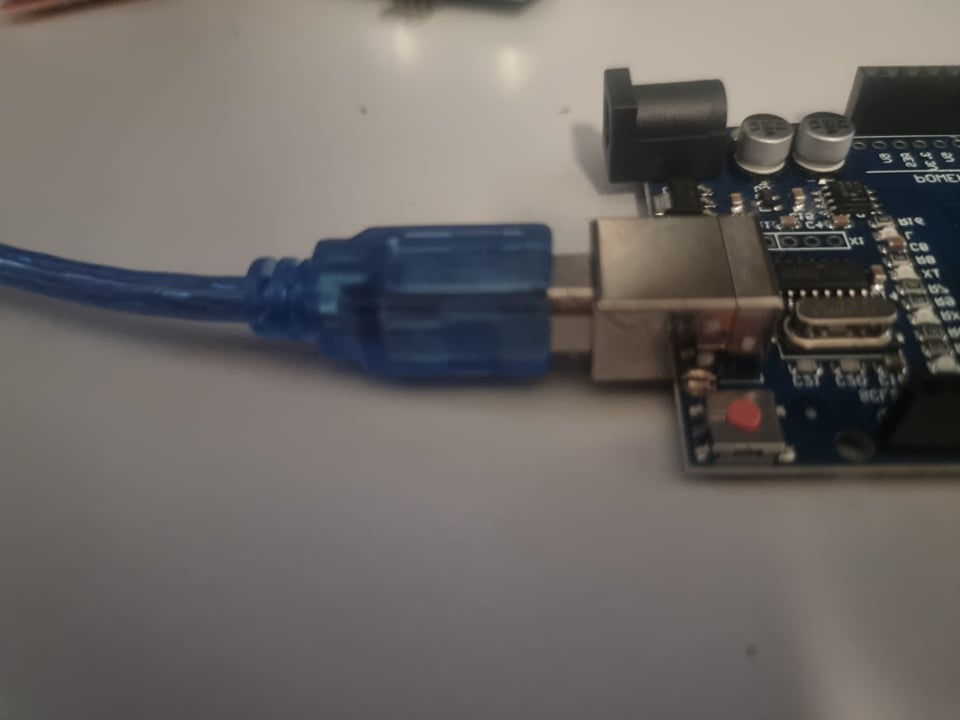UNO R3: (587, 63, 959, 503)
